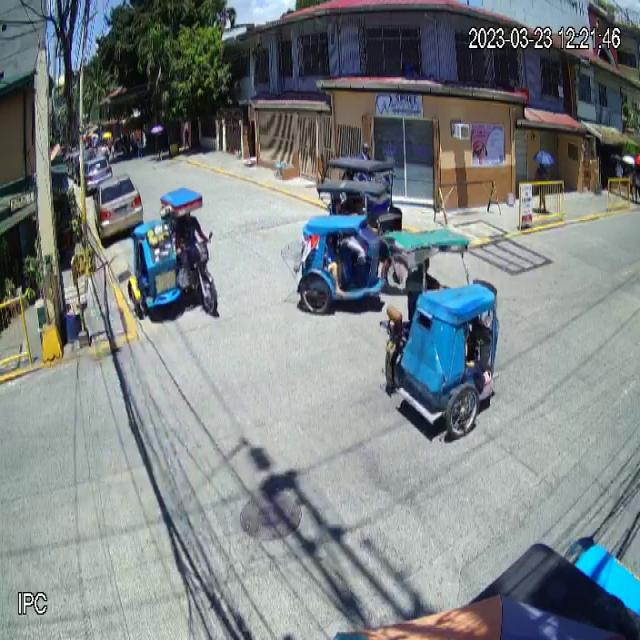Tricycle: (380, 222, 501, 441), (296, 181, 408, 317), (128, 187, 218, 317)
